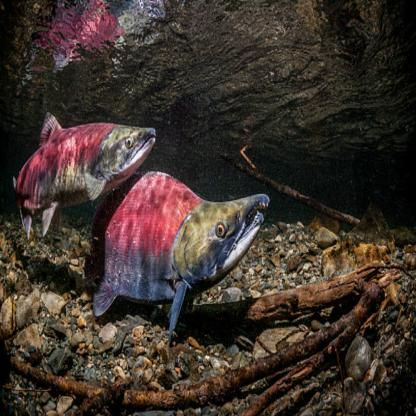sockeye: (89, 176, 255, 305), (0, 114, 152, 221)
